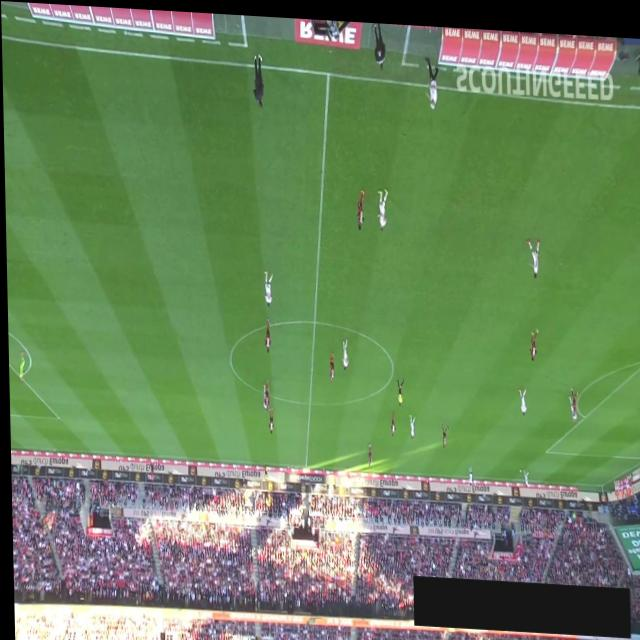goalkeeper: (16, 349, 23, 382)
player: (524, 231, 538, 272), (375, 182, 387, 227), (354, 183, 364, 226), (261, 267, 272, 303), (526, 320, 537, 355), (262, 313, 269, 350), (568, 381, 577, 409), (566, 387, 574, 416), (516, 381, 524, 409), (438, 418, 446, 442), (340, 334, 346, 366), (261, 376, 267, 407), (326, 346, 332, 376), (407, 408, 413, 433), (266, 404, 271, 431), (388, 405, 393, 431), (521, 461, 527, 480), (465, 460, 470, 480), (365, 438, 369, 460)
referee: (394, 373, 402, 402), (261, 459, 267, 479)
